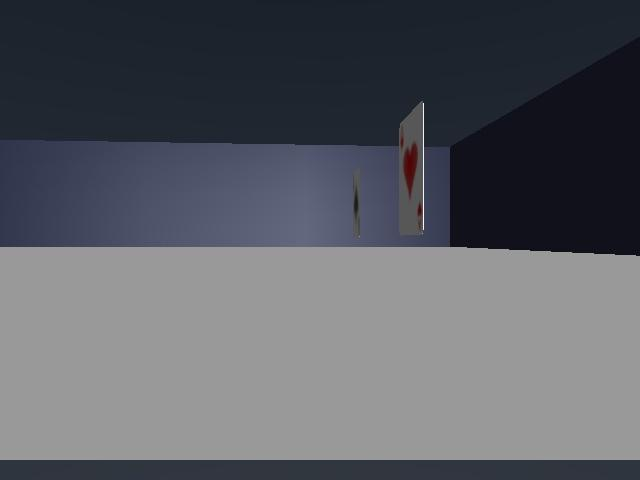club: (353, 168, 359, 236)
heart: (399, 102, 423, 234)
